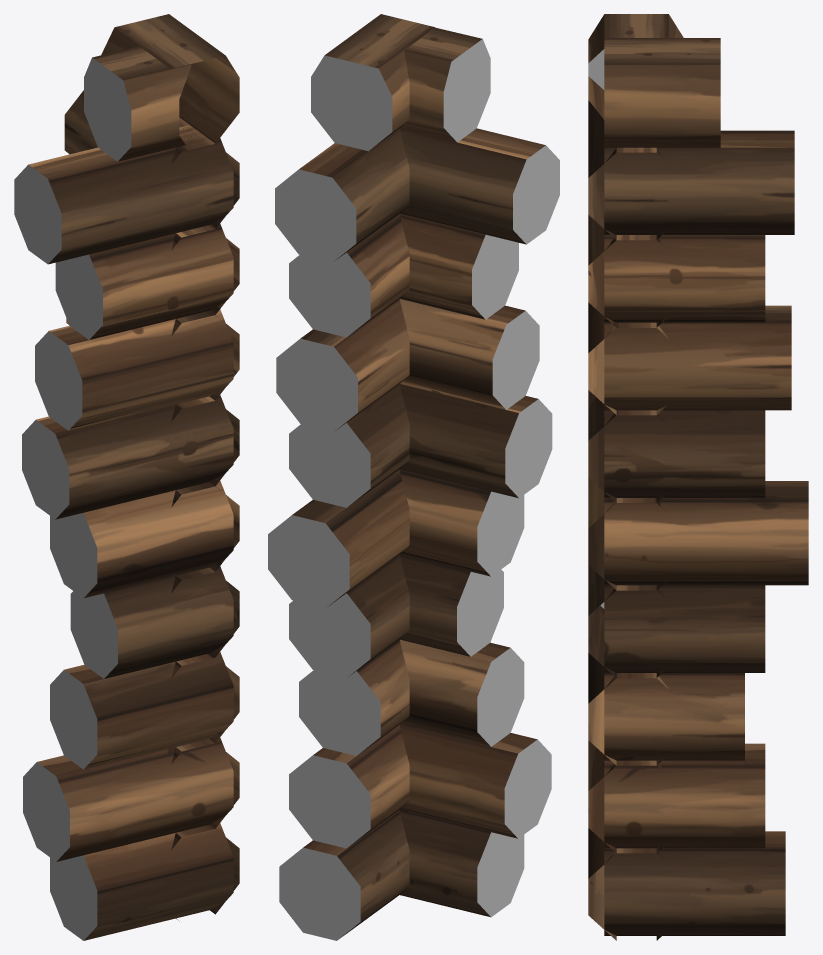
Rendered from pillar02_B.fbx.
The picture shows the model from 3 angles, left to right: view 1: azimuth 30°, elevation 25°; view 2: azimuth 150°, elevation 25°; view 3: azimuth 270°, elevation 25°; orthographic projection. The views are drawn at different scales.
Parts seen in each view (by area): view 1: pillar02_B; view 2: pillar02_B; view 3: pillar02_B.
Part boxes in pixels (x1,y1,x2,y2): pillar02_B: (14,14,239,940); pillar02_B: (268,14,559,940); pillar02_B: (588,14,808,940).
Bounding box in the file's own units: 68.05 × 300 × 68.41.
